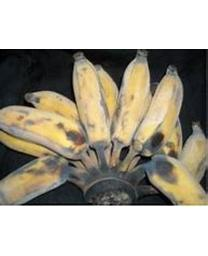banana: (0, 53, 207, 203)
